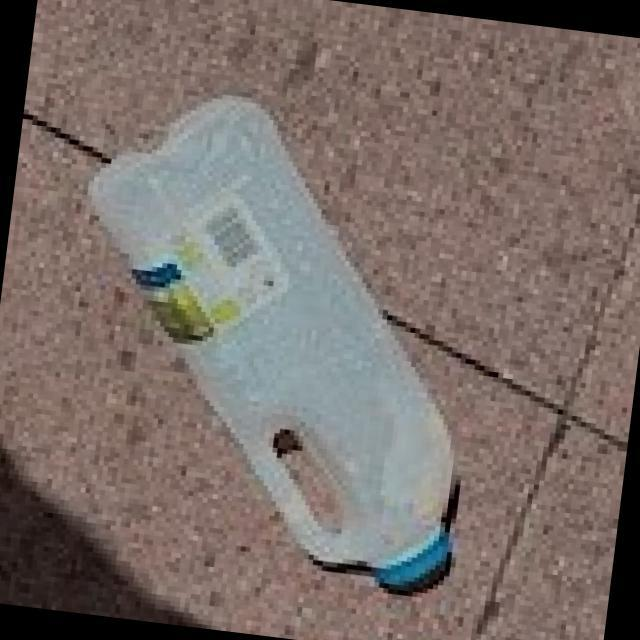HDPE Plastic: (84, 91, 464, 595)
